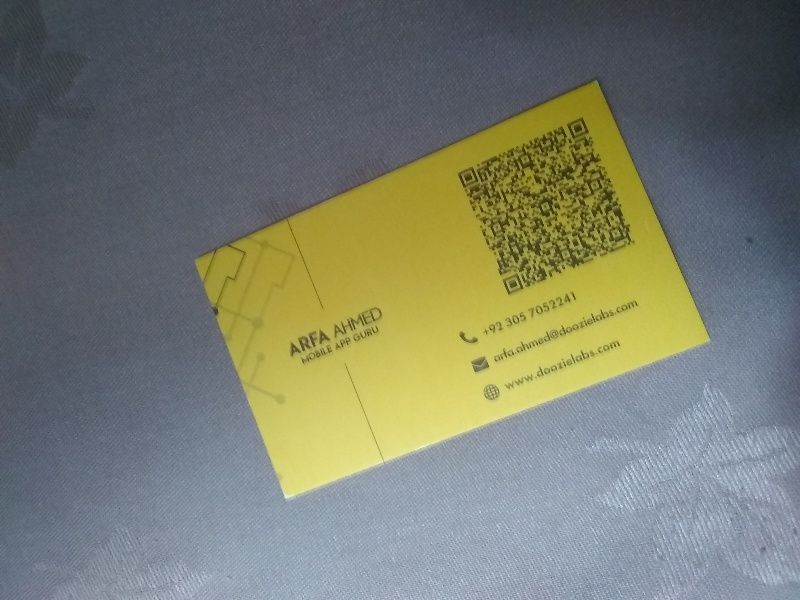front: (188, 71, 714, 508)
